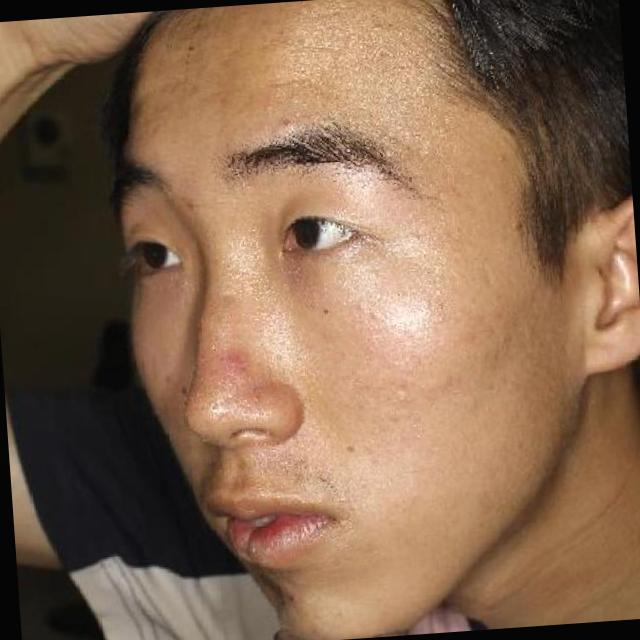blackhead: (270, 106, 301, 137), (176, 36, 206, 61), (338, 437, 363, 457), (180, 196, 202, 217), (314, 299, 334, 322)
nodules: (491, 148, 512, 168)
